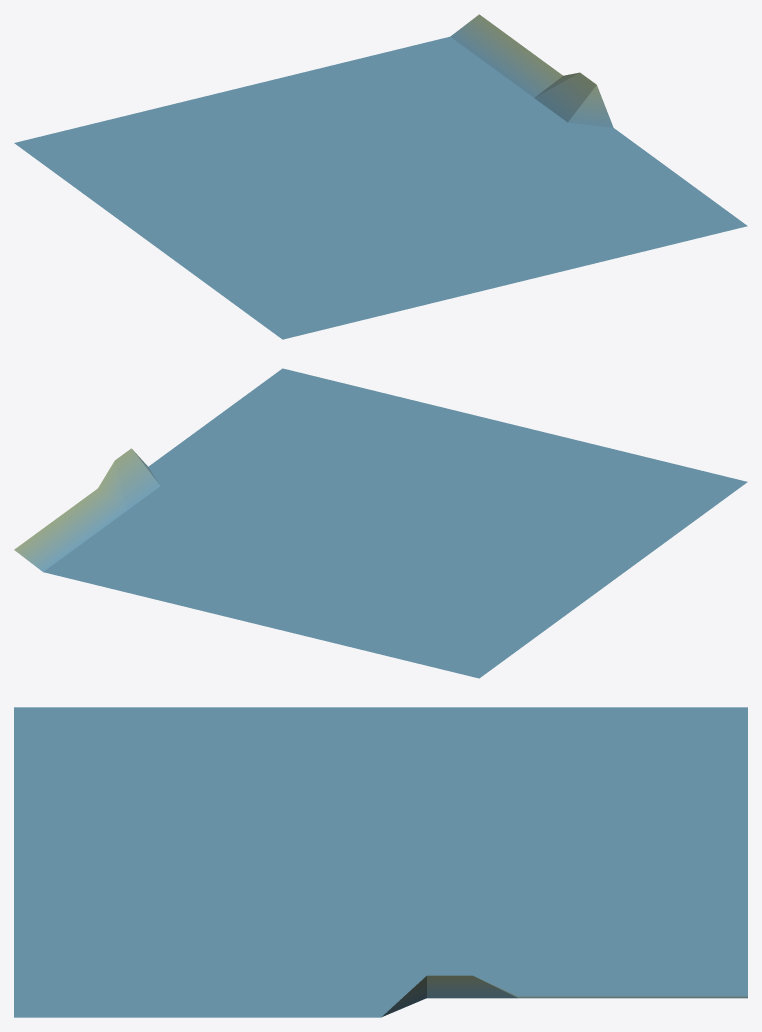
The picture shows the model from 3 angles, top to bottom: view 1: azimuth 30°, elevation 25°; view 2: azimuth 150°, elevation 25°; view 3: azimuth 270°, elevation 25°; orthographic projection. The views are drawn at different scales.
Bounding box in the file's own units: 32 × 2.02 × 32.
